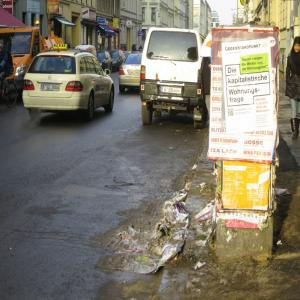Vehicle-registration-plate: (162, 87, 183, 95), (42, 86, 61, 93), (131, 72, 142, 77)
